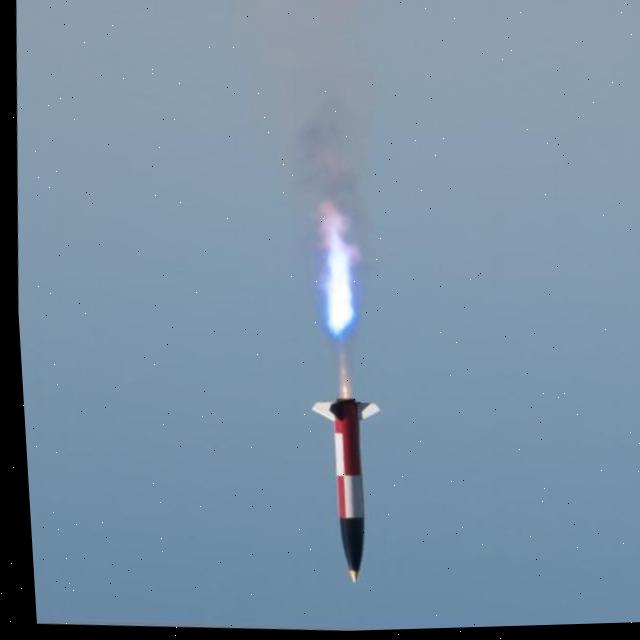missile: (288, 377, 403, 598)
